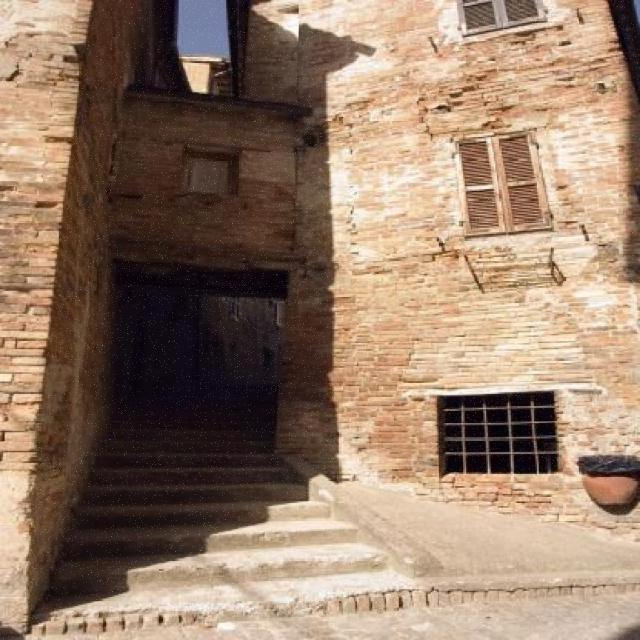stair: (44, 384, 390, 594)
